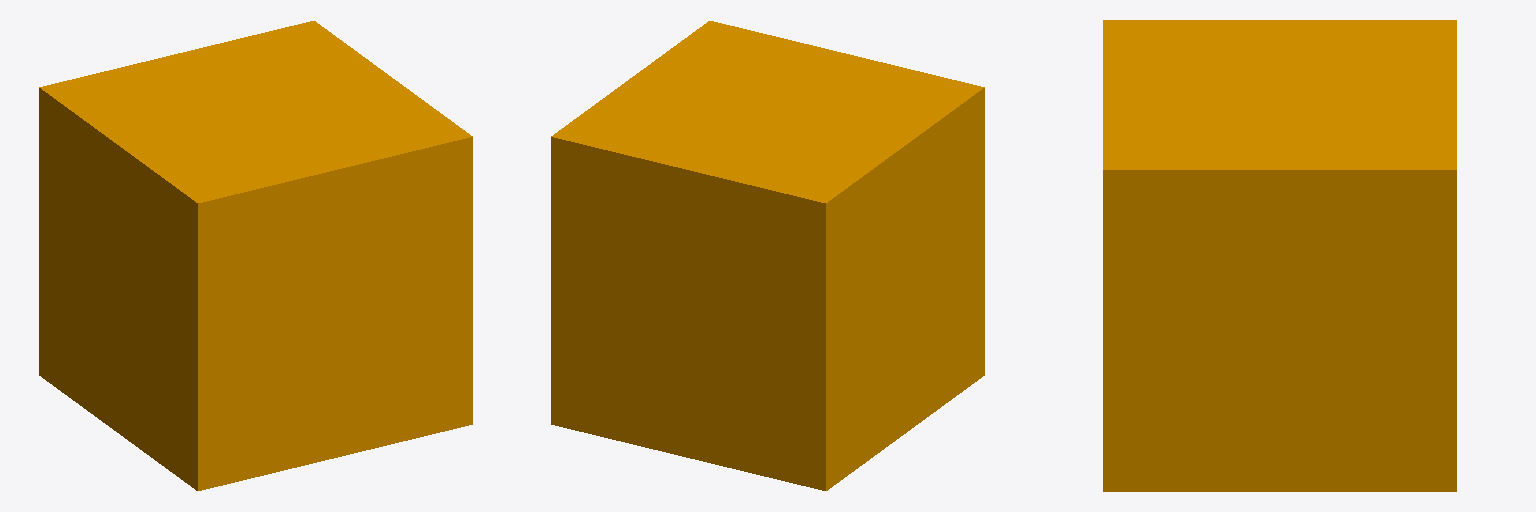
URDF robot description (ur5):
<?xml version="1.0" encoding="utf-8"?>

<robot name="ur5">

  <!-- Robot Links -->
  <link name="world" />

  <link name="base_link">
    <inertial>
      <origin xyz="3.8908E-17 0.04767 -7.8127E-06" rpy="0 0 0" />
      <mass value="2.0171" />
      <inertia ixx="0.005586" ixy="-1.0982E-17" ixz="1.3566E-18" iyy="0.0063123" iyz="-2.5055E-07" izz="0.0055872" />
    </inertial>
    <visual>
      <origin xyz="0 0 0" rpy="0 0 0" />
      <geometry>
        <mesh filename="package://ur5/meshes/base_link.STL" />
      </geometry>
      <material name="">
        <color rgba="0.79216 0.81961 0.93333 1" />
      </material>
    </visual>
    <collision>
      <origin xyz="0 0 0" rpy="0 0 0" />
      <geometry>
        <mesh filename="package://ur5/meshes/base_link.STL" />
      </geometry>
    </collision>
  </link>

  <link name="link_1">
    <inertial>
      <origin xyz="-0.0380406710172112 0.0624222716437212 1.70200828973279E-07" rpy="0 0 0" />
      <mass value="1.97190888064709" />
      <inertia ixx="0.00429954770180157" ixy="0.00121409993044422" ixz="-2.33754900717327E-09" iyy="0.00586776056653254" iyz="-9.02195404940386E-10" izz="0.00632240174237383" />
    </inertial>
    <visual>
      <origin xyz="0 0 0" rpy="0 0 0" />
      <geometry>
        <mesh filename="package://ur5/meshes/link_1.STL" />
      </geometry>
      <material name="">
        <color rgba="0.792156862745098 0.819607843137255 0.933333333333333 1" />
      </material>
    </visual>
    <collision>
      <origin xyz="0 0 0" rpy="0 0 0" />
      <geometry>
        <mesh filename="package://ur5/meshes/link_1.STL" />
      </geometry>
    </collision>
  </link>

  <link name="link_2">
    <inertial>
      <origin xyz="-0.0518944125106651 0.177875 -3.45259213411031E-19" rpy="0 0 0" />
      <mass value="4.90664934838919" />
      <inertia ixx="0.119166306829544" ixy="7.12832856210159E-20" ixz="1.41170367633891E-19" iyy="0.0103792262587238" iyz="-6.6483117914141E-19" izz="0.114829512620447" />
    </inertial>
    <visual>
      <origin xyz="0 0 0" rpy="0 0 0" />
      <geometry>
        <mesh filename="package://ur5/meshes/link_2.STL" />
      </geometry>
      <material name="">
        <color rgba="0.792156862745098 0.819607843137255 0.933333333333333 1" />
      </material>
    </visual>
    <collision>
      <origin xyz="0 0 0" rpy="0 0 0" />
      <geometry>
        <mesh filename="package://ur5/meshes/link_2.STL" />
      </geometry>
    </collision>
  </link>

  <link name="link_3">
    <inertial>
      <origin xyz="0.0709836520418711 0.00984606315843561 -3.12735130856287E-09" rpy="0 0 0" />
      <mass value="1.70811121792676" />
      <inertia ixx="0.003344964276941" ixy="-0.000815500724151719" ixz="-3.32971212844834E-10" iyy="0.00460394948553801" iyz="4.52826957155396E-10" izz="0.00490007893927466" />
    </inertial>
    <visual>
      <origin xyz="0 0 0" rpy="0 0 0" />
      <geometry>
        <mesh filename="package://ur5/meshes/link_3.STL" />
      </geometry>
      <material name="">
        <color rgba="0.792156862745098 0.819607843137255 0.933333333333333 1" />
      </material>
    </visual>
    <collision>
      <origin xyz="0 0 0" rpy="0 0 0" />
      <geometry>
        <mesh filename="package://ur5/meshes/link_3.STL" />
      </geometry>
    </collision>
  </link> 

  <link name="link_4">
    <inertial>
      <origin xyz="0.0708307470038271 0.130740197026429 -3.09886790789175E-07" rpy="0 0 0" />
      <mass value="2.15968468440729" />
      <inertia ixx="0.0234261873003578" ixy="-0.00584229346606452" ixz="-4.32903230711196E-08" iyy="0.00623786733512577" iyz="-7.26337149502994E-08" izz="0.026052830309967" />
    </inertial>
    <visual>
      <origin xyz="0 0 0" rpy="0 0 0" />
      <geometry>
        <mesh filename="package://ur5/meshes/link_4.STL" />
      </geometry>
      <material name="">
        <color rgba="0.792156862745098 0.819607843137255 0.933333333333333 1" />
      </material>
    </visual>
    <collision>
      <origin xyz="0 0 0" rpy="0 0 0" />
      <geometry>
        <mesh filename="package://ur5/meshes/link_4.STL" />
      </geometry>
    </collision>
  </link>

  <link name="link_5">
    <inertial>
      <origin xyz="0.0103627029059784 0.00980076113119743 0.0597441688704256" rpy="0 0 0" />
      <mass value="1.83510738804944" />
      <inertia ixx="0.0071632177132756" ixy="0.000186368537764031" ixz="0.00118141035116698" iyy="0.00720216879798446" iyz="-0.0011338270543624" izz="0.00336114973585378" />
    </inertial>
    <visual>
      <origin xyz="0 0 0" rpy="0 0 0" />
      <geometry>
        <mesh filename="package://ur5/meshes/link_5.STL" />
      </geometry>
      <material name="">
        <color rgba="0.792156862745098 0.819607843137255 0.933333333333333 1" />
      </material>
    </visual>
    <collision>
      <origin xyz="0 0 0" rpy="0 0 0" />
      <geometry>
        <mesh filename="package://ur5/meshes/link_5.STL" />
      </geometry>
    </collision>
  </link>

  <link name="link_6">
    <inertial>
      <origin xyz="-2.13404352369339E-20 0.0313987811298326 -7.81553174110383E-06" rpy="0 0 0" />
      <mass value="0.542656625657755" />
      <inertia ixx="0.000548242650538083" ixy="4.09479362245092E-22" ixz="7.11795743081048E-23" iyy="0.000736884379592923" iyz="1.40387237136961E-07" izz="0.000548348712436984" />
    </inertial>
    <visual>
      <origin xyz="0 0 0" rpy="0 0 0" />
      <geometry>
        <mesh filename="package://ur5/meshes/link_6.STL" />
      </geometry>
      <material name="">
        <color rgba="0.792156862745098 0.819607843137255 0.933333333333333 1" />
      </material>
    </visual>
    <collision>
      <origin xyz="0 0 0" rpy="0 0 0" />
      <geometry>
        <mesh filename="package://ur5/meshes/link_6.STL" />
      </geometry>
    </collision>
  </link>

  <link name="camera_link">
    <visual>
      <origin xyz="0 0 0" rpy="0 0 0" />
      <geometry>
        <box size="0.03 0.03 0.03"/>
      </geometry>
      <material name="red"/>
    </visual>
  </link>

  <link name="camera_link_optical"></link>
  
  <!-- Robot Joints -->
  <joint name="base_fixture" type="fixed">
    <parent link="world"/>
    <child link="base_link"/>
  </joint>

  <joint name="joint_1" type="revolute">
    <origin xyz="0 0 0.1181" rpy="1.5708 0 0" />
    <parent link="base_link" />
    <child link="link_1" />
    <axis xyz="0 1 0" />
    <limit lower="-2.1" upper="2.1" effort="200" velocity="3" />
  </joint>

  <joint name="joint_2" type="revolute">
    <origin xyz="-0.1157 0.0775 0" rpy="0 0 0" />
    <parent link="link_1" />
    <child link="link_2" />
    <axis xyz="1 0 0" />
    <limit lower="-1.6" upper="1.6" effort="200" velocity="3" />
  </joint>

  <joint name="joint_3" type="revolute">
    <origin xyz="0 0.35575 0" rpy="0 0 0" />
    <parent link="link_2" />
    <child link="link_3" />
    <axis xyz="1 0 0" />
    <limit lower="-2.1" upper="2.1" effort="200" velocity="3" />
  </joint>

  <joint name="joint_4" type="revolute">
    <origin xyz="0.1157 0.07 0" rpy="0 0 0" />
    <parent link="link_3" />
    <child link="link_4" />
    <axis xyz="0 1 0" />
    <limit lower="-1.6" upper="1.6" effort="200" velocity="3" />
  </joint>

  <joint name="joint_5" type="revolute">
    <origin xyz="0 0.28575 0" rpy="0 0 0" />
    <parent link="link_4" />
    <child link="link_5" />
    <axis xyz="1 0 0" />
    <limit lower="-1.6" upper="2.1" effort="200" velocity="3" />
  </joint>

  <joint name="joint_6" type="revolute">
    <origin xyz="0 0.071 0.12" rpy="0 0 0" />
    <parent link="link_5" />
    <child link="link_6" />
    <axis xyz="0 1 0" />
    <limit lower="-3.14" upper="3.14" effort="200" velocity="3" />
  </joint>

  <joint name="camera_joint" type="fixed">
    <parent link="link_6"/>
    <child link="camera_link"/>
    <origin xyz="0 0.0825 0" rpy="0 0 1.57"/>
  </joint>
  
  <joint name="camera_optical_joint" type="fixed">
    <origin xyz="0 0 0" rpy="0 0 0" />
    <parent link="camera_link" />
    <child link="camera_link_optical" />
  </joint>

  <!-- Robot arm tranmissions -->
  <transmission name="joint_1_trans">
    <type>transmission_interface/SimpleTransmission</type>
    <joint name="joint_1">
      <hardwareInterface>hardware_interface/PositionJointInterface</hardwareInterface>
    </joint>
    <actuator name="joint_1_motor">
      <hardwareInterface>hardware_interface/PositionJointInterface</hardwareInterface>
      <mechanicalReduction>1</mechanicalReduction>
    </actuator>
  </transmission>

  <transmission name="joint_2_trans">
    <type>transmission_interface/SimpleTransmission</type>
    <joint name="joint_2">
      <hardwareInterface>hardware_interface/PositionJointInterface</hardwareInterface>
    </joint>
    <actuator name="joint_2_motor">
      <hardwareInterface>hardware_interface/PositionJointInterface</hardwareInterface>
      <mechanicalReduction>1</mechanicalReduction>
    </actuator>
  </transmission>

  <transmission name="joint_3_trans">
    <type>transmission_interface/SimpleTransmission</type>
    <joint name="joint_3">
      <hardwareInterface>hardware_interface/PositionJointInterface</hardwareInterface>
    </joint>
    <actuator name="joint_3_motor">
      <hardwareInterface>hardware_interface/PositionJointInterface</hardwareInterface>
      <mechanicalReduction>1</mechanicalReduction>
    </actuator>
  </transmission>

  <transmission name="joint_4_trans">
    <type>transmission_interface/SimpleTransmission</type>
    <joint name="joint_4">
      <hardwareInterface>hardware_interface/PositionJointInterface</hardwareInterface>
    </joint>
    <actuator name="joint_4_motor">
      <hardwareInterface>hardware_interface/PositionJointInterface</hardwareInterface>
      <mechanicalReduction>1</mechanicalReduction>
    </actuator>
  </transmission>

  <transmission name="joint_5_trans">
    <type>transmission_interface/SimpleTransmission</type>
    <joint name="joint_5">
      <hardwareInterface>hardware_interface/PositionJointInterface</hardwareInterface>
    </joint>
    <actuator name="joint_5_motor">
      <hardwareInterface>hardware_interface/PositionJointInterface</hardwareInterface>
      <mechanicalReduction>1</mechanicalReduction>
    </actuator>
  </transmission>

  <transmission name="joint_6_trans">
    <type>transmission_interface/SimpleTransmission</type>
    <joint name="joint_6">
      <hardwareInterface>hardware_interface/PositionJointInterface</hardwareInterface>
    </joint>
    <actuator name="joint_6_motor">
      <hardwareInterface>hardware_interface/PositionJointInterface</hardwareInterface>
      <mechanicalReduction>1</mechanicalReduction>
    </actuator>
  </transmission>

  <!-- Control plugin -->
  <gazebo>
    <plugin name="gazebo_ros_control" filename="libgazebo_ros_control.so">
      <robotNamespace>/</robotNamespace>
    </plugin>
  </gazebo>

  <!-- Collision tags of Robot arm -->
  <gazebo reference="link_1">
	  <selfCollide>true</selfCollide>
  </gazebo>

  <gazebo reference="link_2">
	  <selfCollide>true</selfCollide>
  </gazebo>

  <gazebo reference="link_3">
	  <selfCollide>true</selfCollide>
  </gazebo>

  <gazebo reference="link_4">
	  <selfCollide>true</selfCollide>
  </gazebo>

  <gazebo reference="link_5">
	  <selfCollide>true</selfCollide>
  </gazebo>

  <gazebo reference="link_6">
	  <selfCollide>true</selfCollide>
  </gazebo>

  <gazebo reference="gripper_root_link">
	  <selfCollide>true</selfCollide>
  </gazebo>

  <gazebo reference="camera_link">
    <material>Gazebo/Red</material>
  </gazebo>

  <gazebo reference="camera_link">
    <material>Gazebo/Red</material>

    <sensor name="camera" type="camera">
      <pose> 0 0 0 0 0 0 </pose>
      <visualize>true</visualize>
      <update_rate>10</update_rate>
      <camera>
        <horizontal_fov>1.089</horizontal_fov>
        <image>
          <format>R8G8B8</format>
          <width>640</width>
          <height>480</height>
        </image>
        <clip>
          <near>0.05</near>
          <far>8.0</far>
        </clip>
      </camera>
      <plugin name="camera_controller" filename="libgazebo_ros_camera.so">
        <frame_name>camera_link_optical</frame_name>
      </plugin>
    </sensor>
  </gazebo>

</robot>

--- Facts derived from the render (not from the file) ---
Views: 3 orthographic renders of the robot side by side, from view 1: azimuth 30°, elevation 25°; view 2: azimuth 150°, elevation 25°; view 3: azimuth 270°, elevation 25°.
Model ur5 with 10 links and 9 joints (6 revolute, 3 fixed), rooted at world, posed every joint at zero.
Visible links, largest first — view 1: camera_link; view 2: camera_link; view 3: camera_link.
Link boxes in pixels (x1,y1,x2,y2): camera_link: [39, 21, 472, 490]; camera_link: [551, 21, 984, 490]; camera_link: [1103, 20, 1456, 491].
Bounding box of the posed robot: 0.03 × 0.03 × 0.03 m (x, y, z).
Meshes: 7 distinct files referenced, 0 mesh visuals loaded (none loaded); not drawn: 7 (reference not matched to a file when rendering).